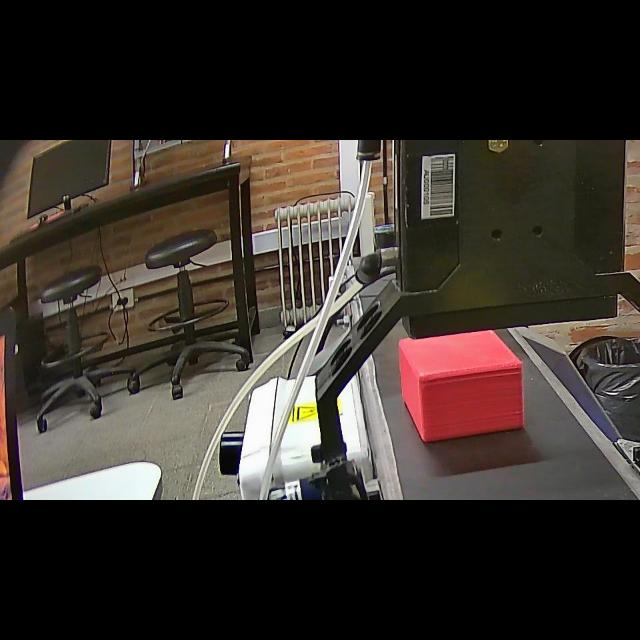redBox: (394, 327, 532, 443)
